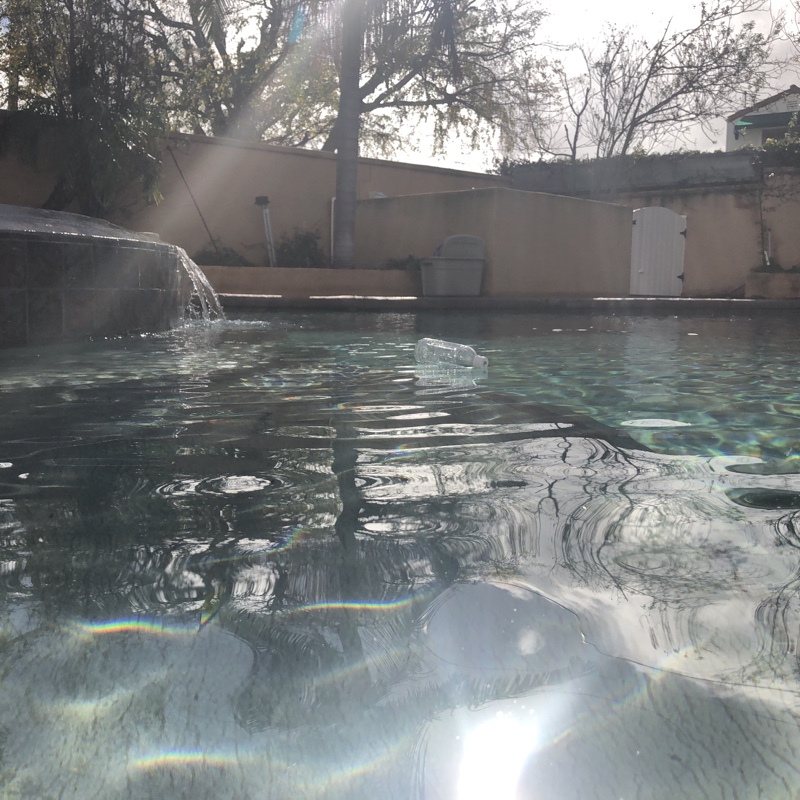Plastic Bottle: (411, 333, 490, 381)
